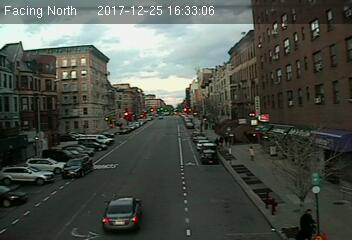car: (103, 194, 143, 231), (61, 155, 94, 178), (202, 149, 218, 165)
